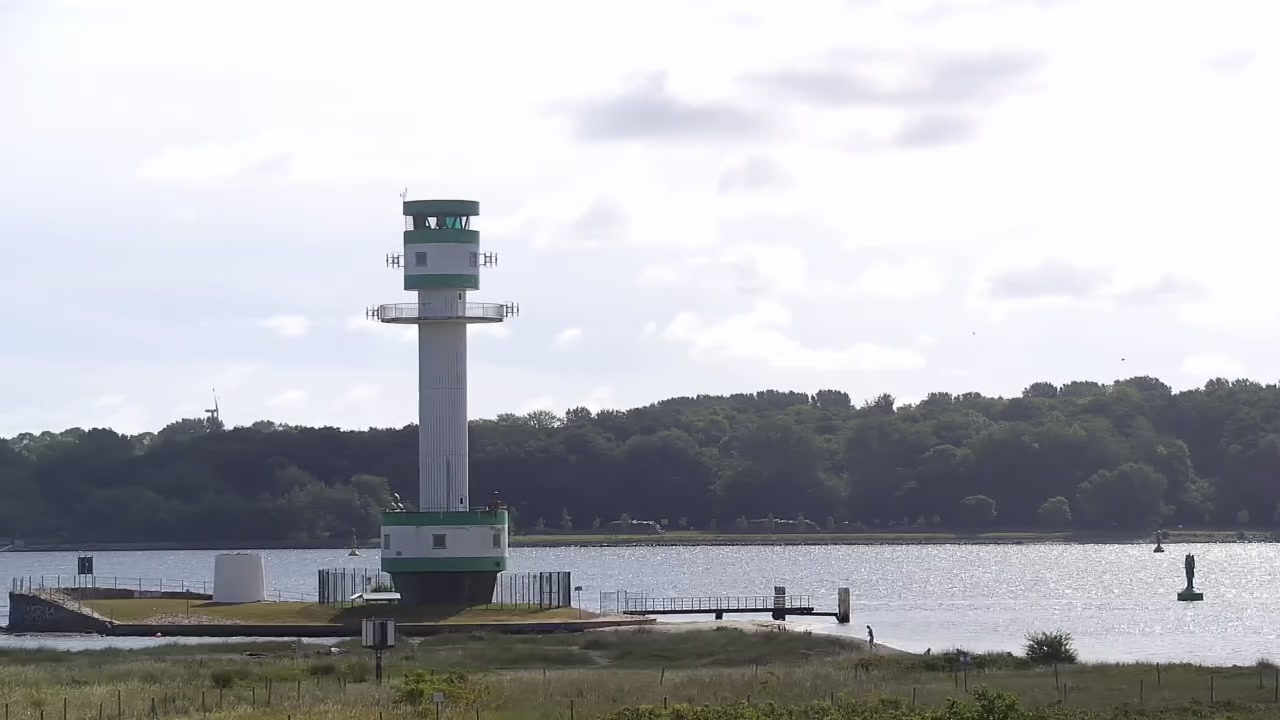human: (865, 624, 874, 649), (923, 647, 931, 656)
land: (607, 520, 664, 535)
